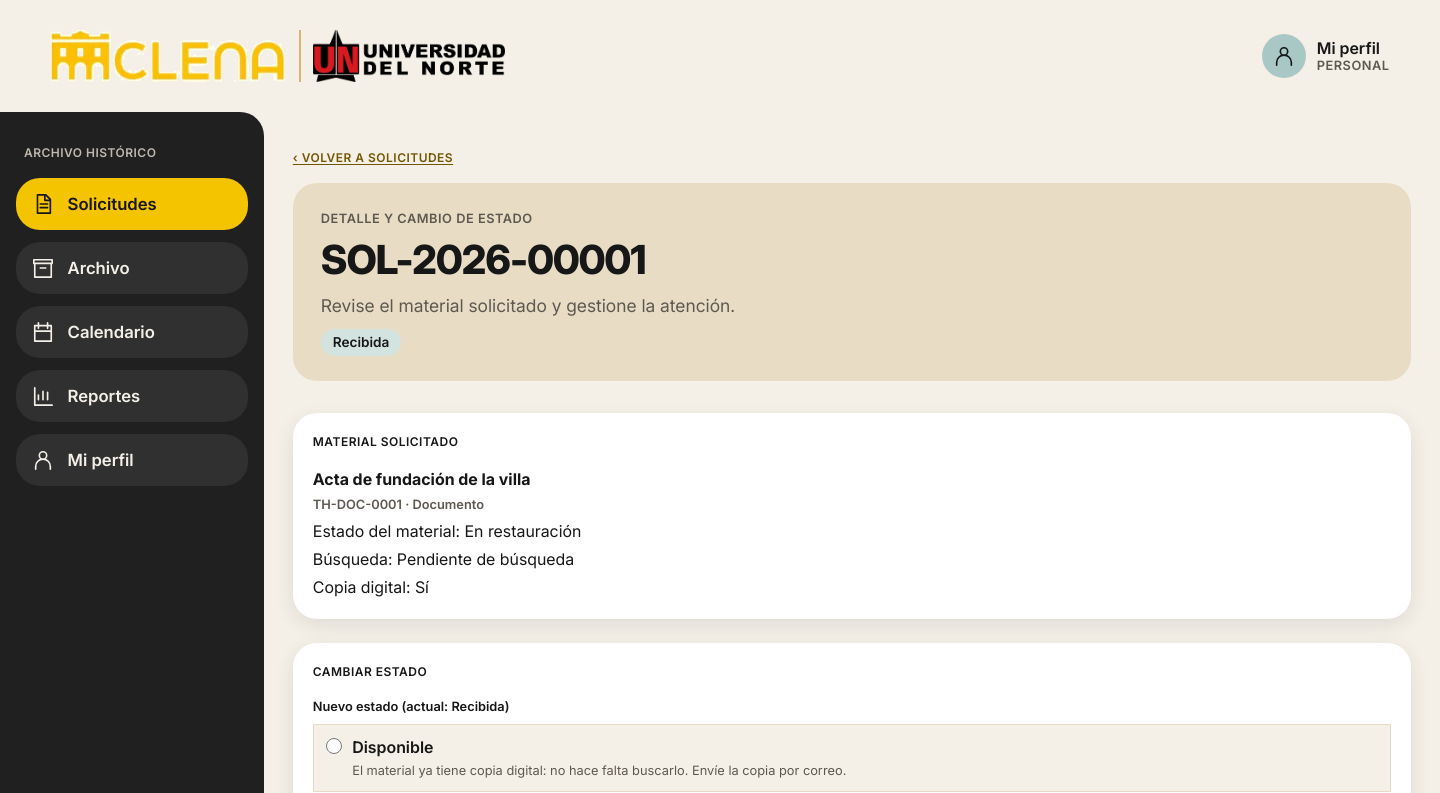
Test: RequestDetailPage › change status (HU-15) › direct Disponible with a digital copy (HU-139) › sends Disponible from Recibida and shows the confirmation
Click the radio button labelled "Disponible".
click(334, 746)  # box [326, 738, 342, 754]
(page scrolled)
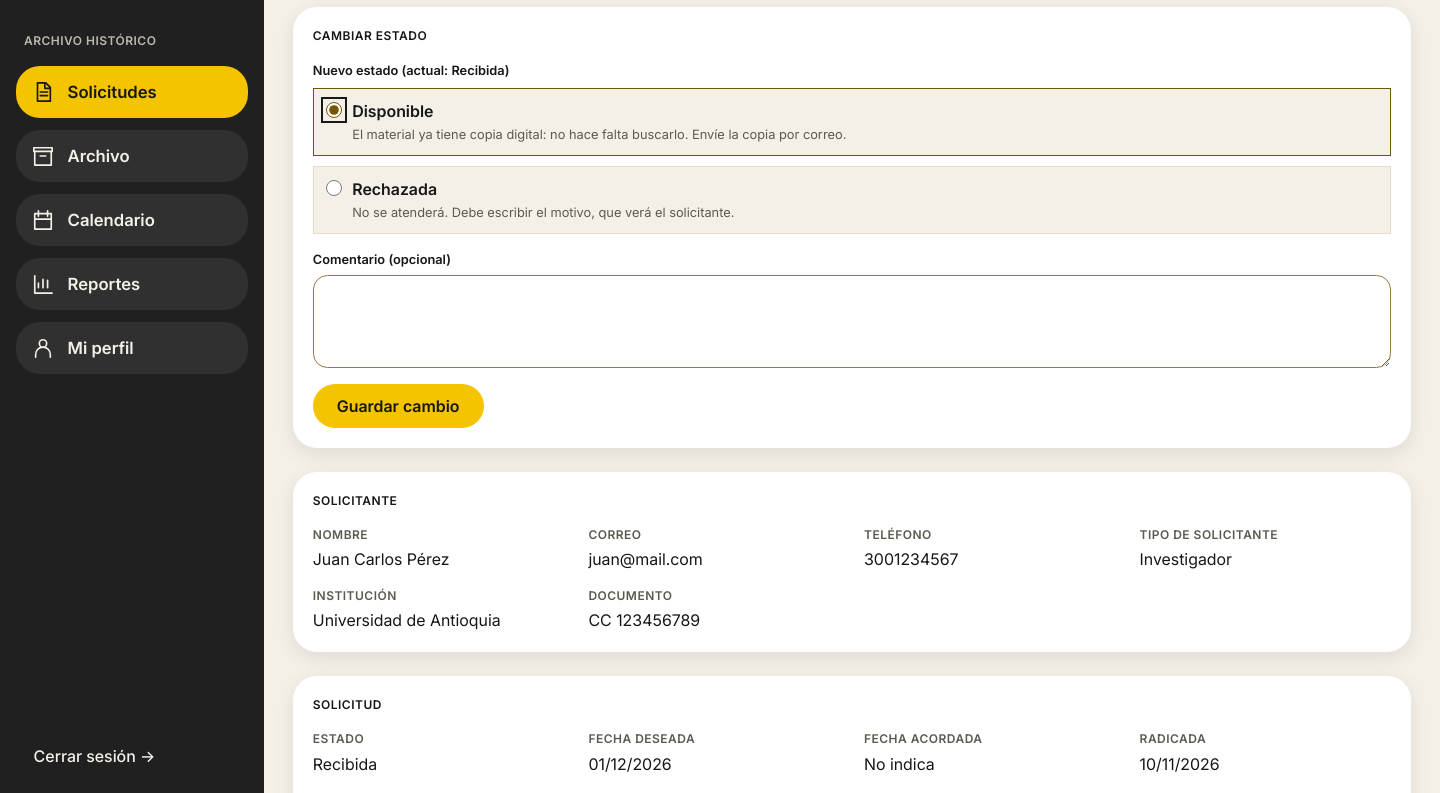
Click the button "Guardar cambio".
click(398, 406)  # box [313, 384, 484, 428]
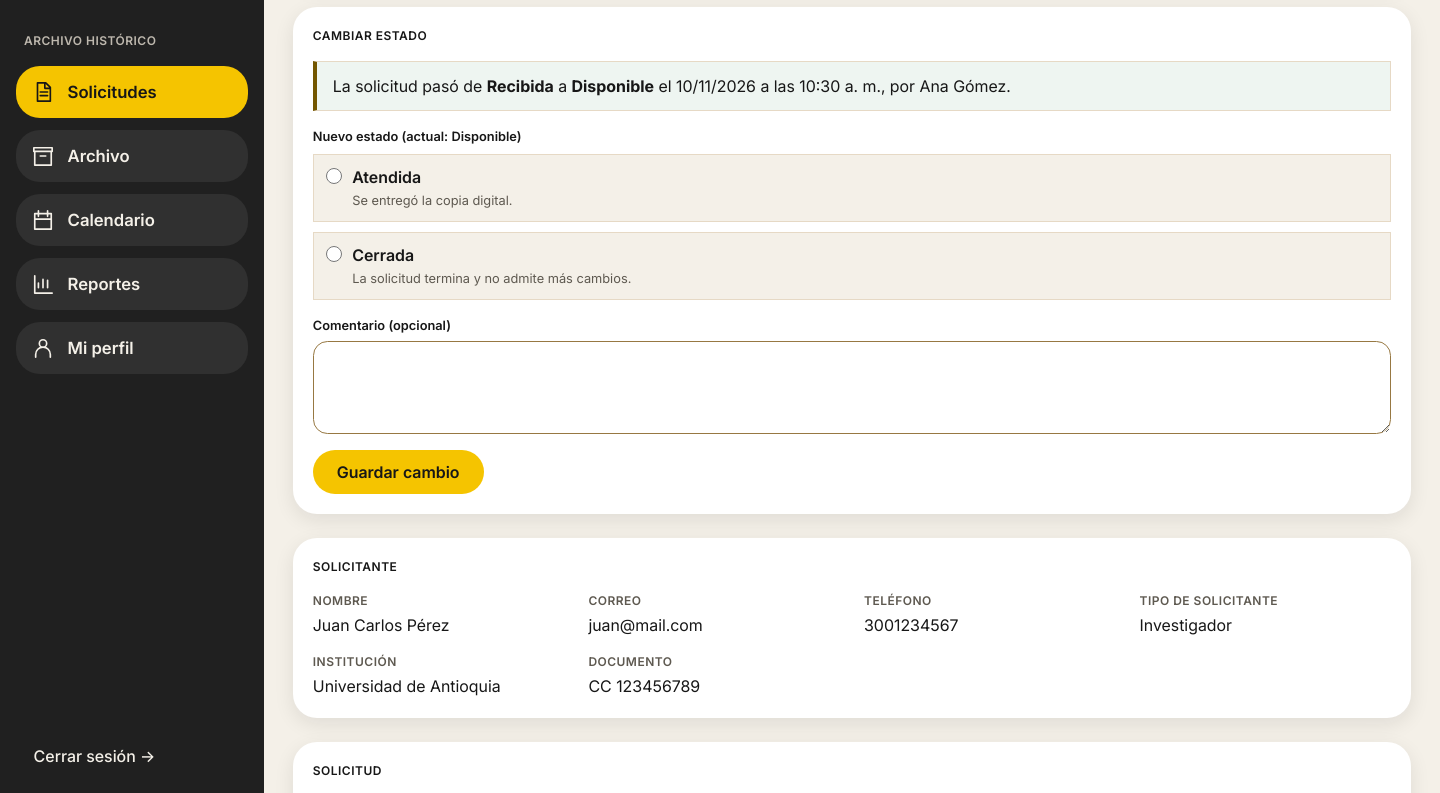
Expected: the message shows "La solicitud pasó de Recibida a Disponible", [313, 60, 1391, 110]
